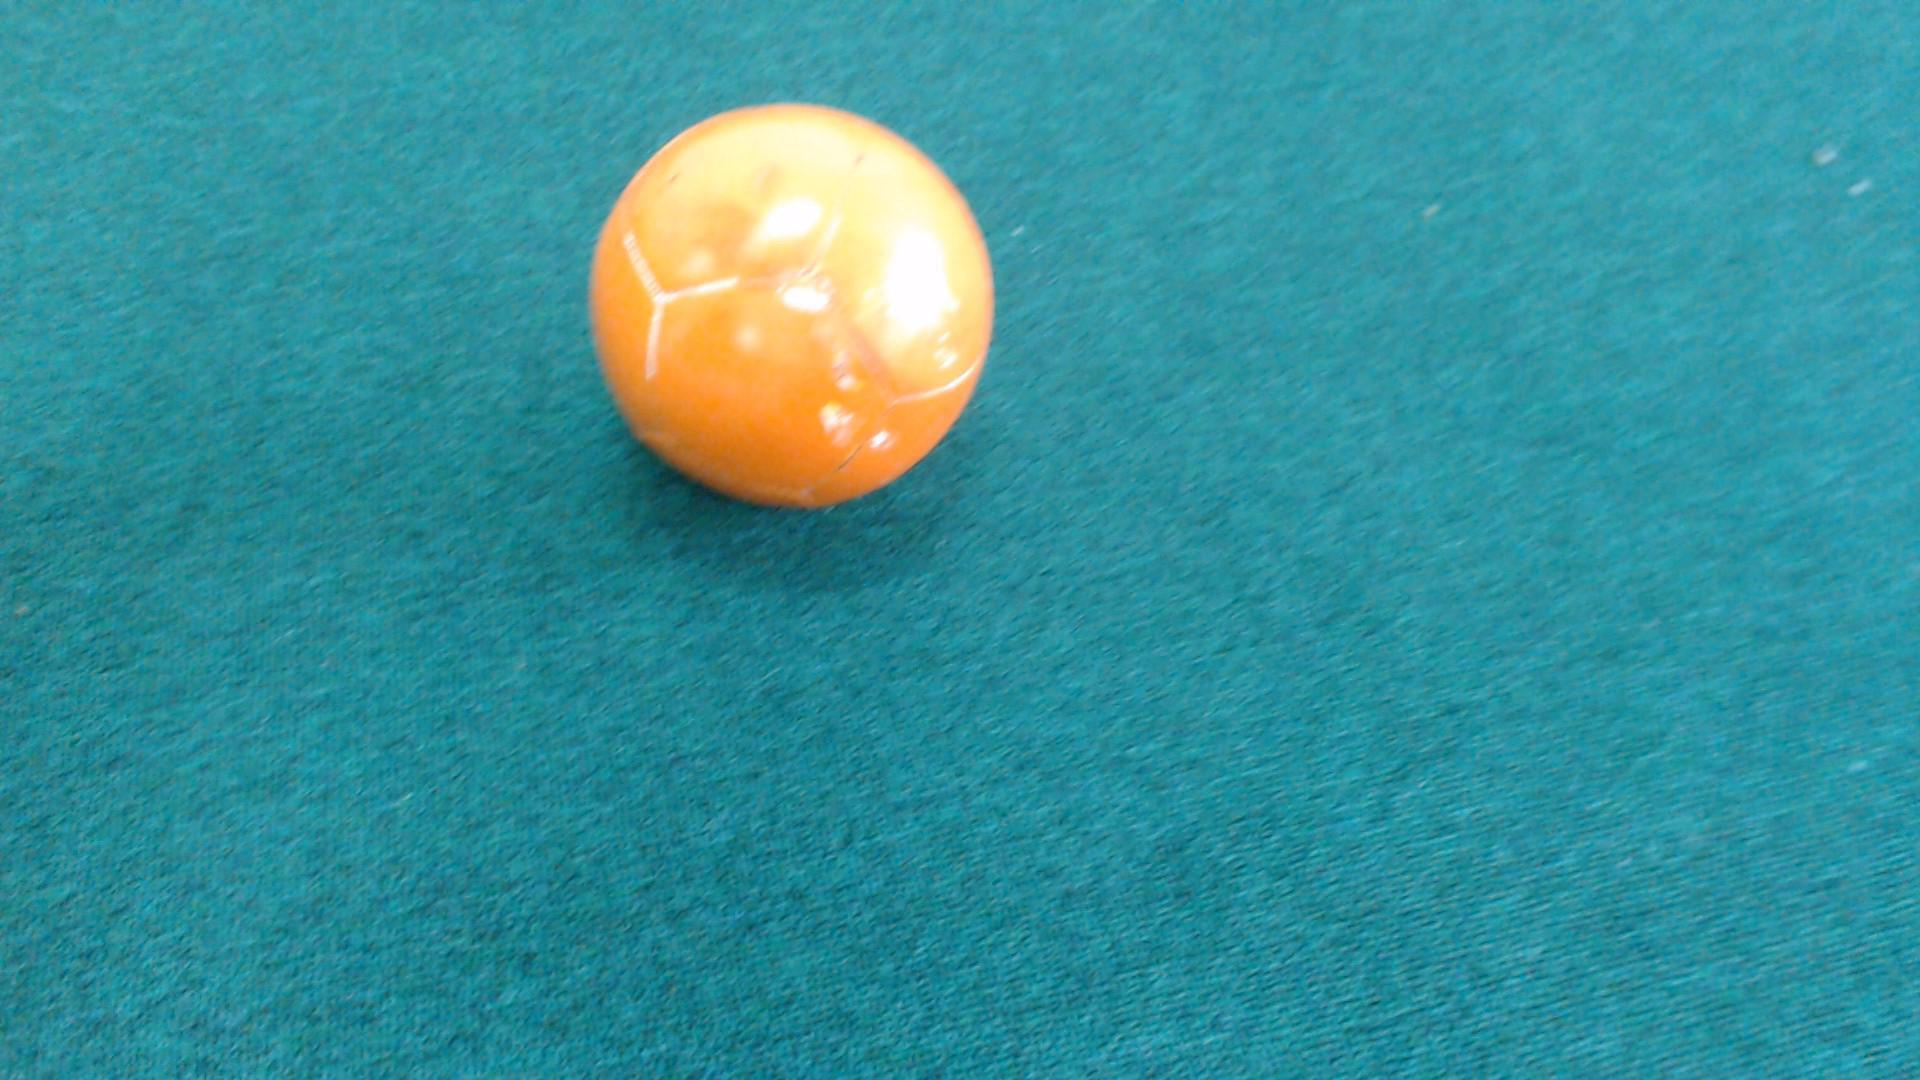bola: (559, 62, 1021, 535)
